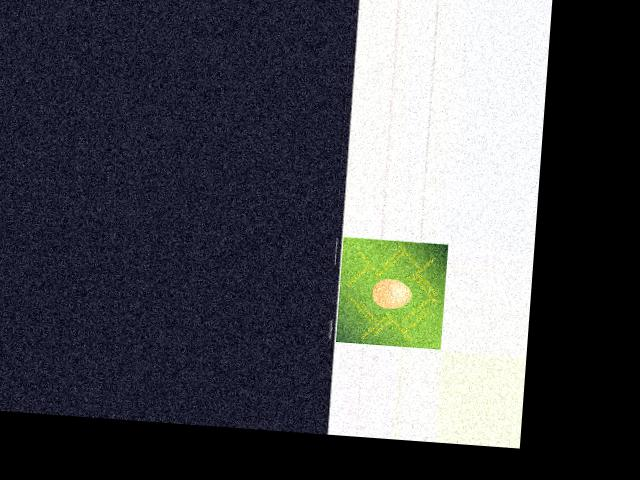egg: (372, 277, 412, 309)
